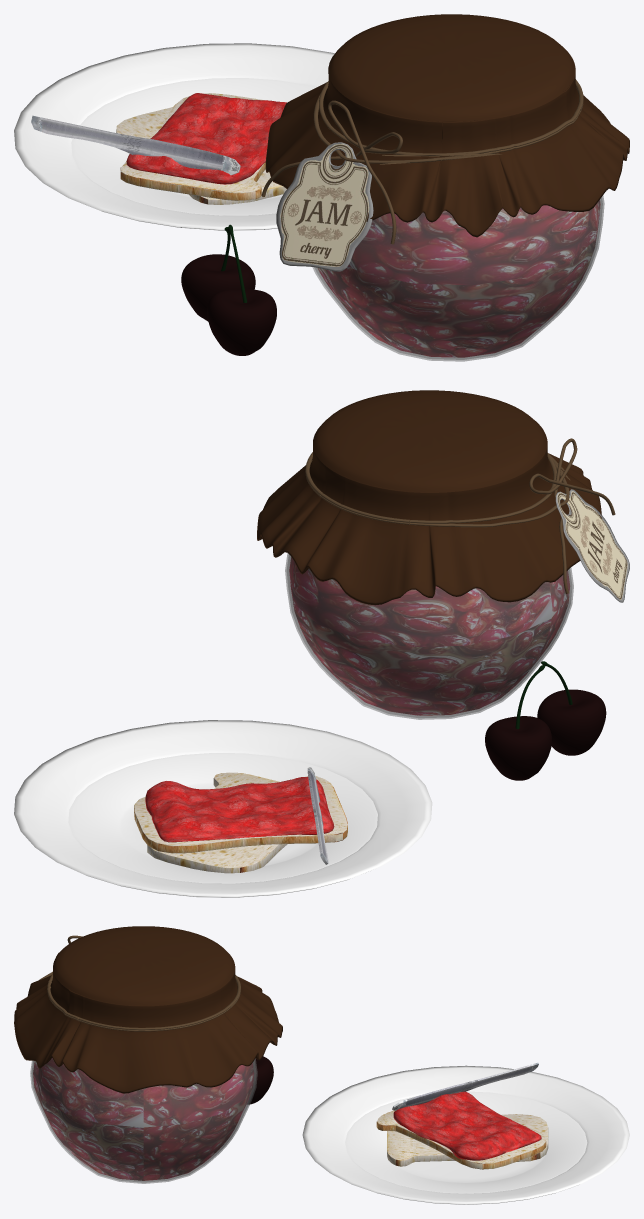
File: Jam.FBX
3 views of the same model, one above another, from view 1: azimuth 30°, elevation 25°; view 2: azimuth 150°, elevation 25°; view 3: azimuth 270°, elevation 25° (orthographic). The views are drawn at different scales.
Parts seen in each view (by area): view 1: Line003, glass_pot, chari, Line002, Plane002, Box003, Sphere016, Shape002, Plane003, Sphere013, Box002, Box001; view 2: Line003, Line002, glass_pot, chari, Box003, Plane002, Sphere013, Sphere016, Shape002, Box002, Box001, Plane003; view 3: Line003, Line002, glass_pot, chari, Box003, Box001, Box002, Plane003, Shape002, Sphere013.
Boxes of the visible parts, x1=… form: Line003: x1=265, y1=14, x2=629, y2=237; glass_pot: x1=312, y1=195, x2=604, y2=361; chari: x1=318, y1=200, x2=600, y2=357; Line002: x1=14, y1=43, x2=334, y2=230; Plane002: x1=276, y1=142, x2=373, y2=271; Box003: x1=126, y1=93, x2=286, y2=184; Sphere016: x1=207, y1=224, x2=276, y2=355; Shape002: x1=261, y1=79, x2=583, y2=244; Plane003: x1=31, y1=115, x2=240, y2=175; Sphere013: x1=181, y1=227, x2=255, y2=321; Box002: x1=120, y1=93, x2=265, y2=200; Box001: x1=116, y1=107, x2=286, y2=204; Line003: x1=257, y1=390, x2=601, y2=605; Line002: x1=14, y1=720, x2=432, y2=897; glass_pot: x1=285, y1=553, x2=573, y2=719; chari: x1=289, y1=557, x2=569, y2=715; Box003: x1=145, y1=777, x2=334, y2=842; Plane002: x1=555, y1=489, x2=629, y2=602; Sphere013: x1=485, y1=665, x2=551, y2=780; Sphere016: x1=537, y1=661, x2=606, y2=755; Shape002: x1=305, y1=438, x2=615, y2=593; Box002: x1=134, y1=776, x2=347, y2=853; Box001: x1=147, y1=772, x2=339, y2=873; Plane003: x1=307, y1=767, x2=328, y2=864; Line003: x1=14, y1=926, x2=282, y2=1093; Line002: x1=302, y1=1065, x2=629, y2=1204; glass_pot: x1=30, y1=1058, x2=257, y2=1183; chari: x1=33, y1=1058, x2=253, y2=1180; Box003: x1=393, y1=1091, x2=541, y2=1160; Box001: x1=387, y1=1114, x2=548, y2=1166; Box002: x1=376, y1=1110, x2=546, y2=1169; Plane003: x1=392, y1=1062, x2=538, y2=1110; Shape002: x1=39, y1=935, x2=240, y2=1031; Sphere013: x1=247, y1=1056, x2=273, y2=1104.
Size of the model in its own units: 37.37 by 24.79 by 66.93.
13 materials, 6 textured.
